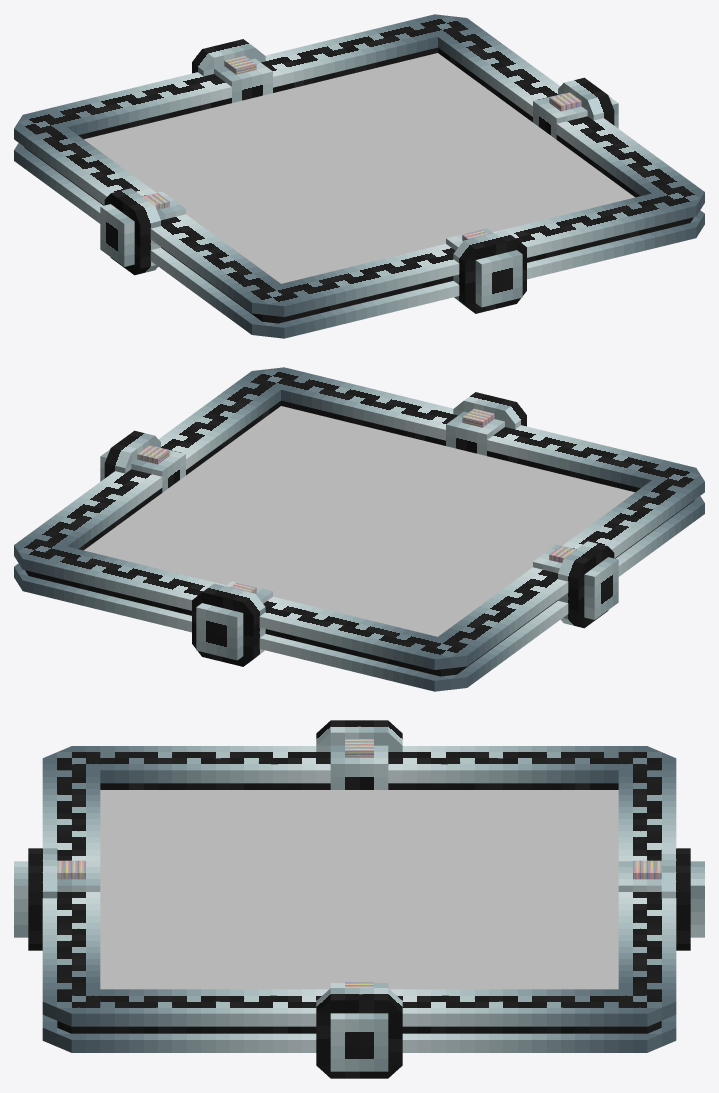
File: collector.obj
3 renders of one model, top to bottom at view 1: azimuth 30°, elevation 25°; view 2: azimuth 150°, elevation 25°; view 3: azimuth 270°, elevation 25°, orthographic. The views are drawn at different scales.
Parts seen in each view (by area): view 1: COLLECTOR_Cube.002; view 2: COLLECTOR_Cube.002; view 3: COLLECTOR_Cube.002.
Boxes of the visible parts, x1,y1,x2,y2 form: COLLECTOR_Cube.002: (14, 14, 704, 338); COLLECTOR_Cube.002: (14, 367, 704, 691); COLLECTOR_Cube.002: (14, 720, 704, 1078).
Size of the model in its own units: 3 by 0.375 by 3.
